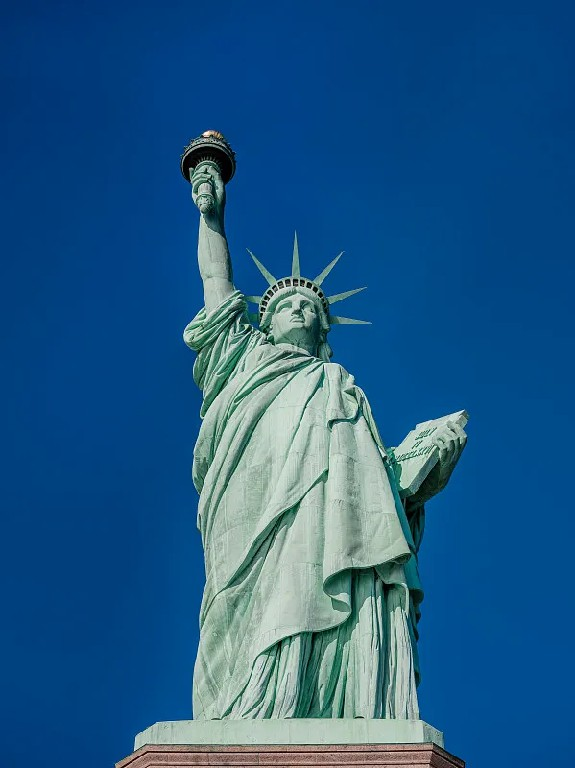SL: (115, 128, 466, 768)
